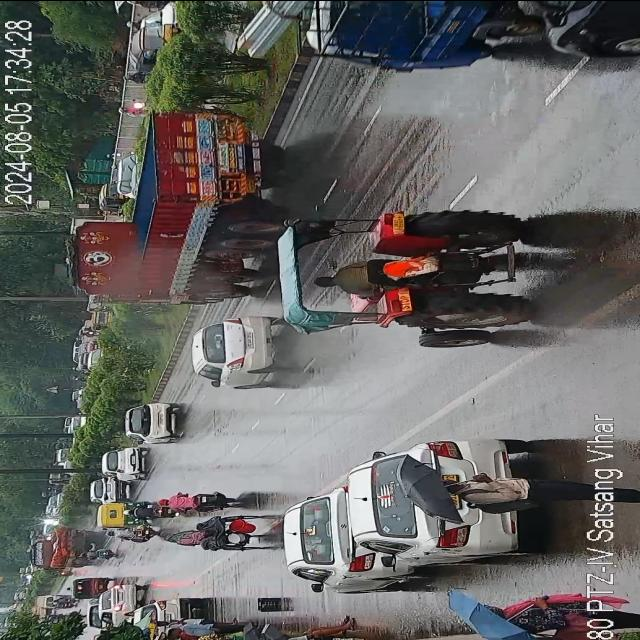2-wheelers: (160, 493, 234, 507), (121, 506, 185, 519), (106, 527, 158, 539), (80, 548, 118, 558), (52, 596, 76, 608)
auto: (172, 515, 266, 551), (132, 26, 178, 80), (100, 498, 135, 528), (83, 600, 113, 626), (74, 577, 108, 597), (49, 570, 73, 576)
car: (350, 438, 528, 566), (282, 496, 394, 590), (518, 0, 638, 64), (192, 316, 278, 388), (132, 593, 186, 640), (125, 400, 180, 444), (99, 578, 144, 624), (105, 443, 146, 481), (88, 474, 112, 502), (99, 476, 127, 500)
pedestrian: (461, 594, 635, 640), (444, 469, 598, 508), (283, 618, 355, 640), (167, 623, 247, 638), (152, 616, 238, 626), (164, 635, 191, 640)
truck: (63, 104, 272, 300), (276, 203, 520, 344), (297, 0, 518, 83), (29, 532, 95, 566)
